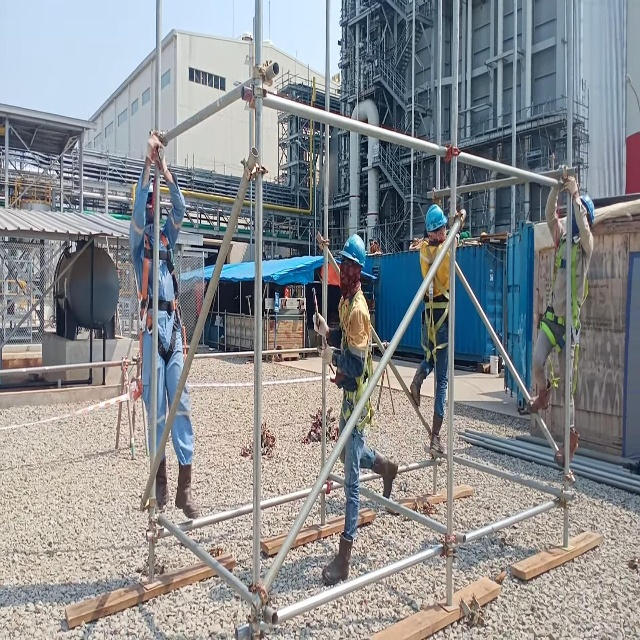Arnes_seguridad: (133, 227, 191, 388), (538, 230, 587, 380), (334, 288, 377, 433), (415, 239, 452, 362)
